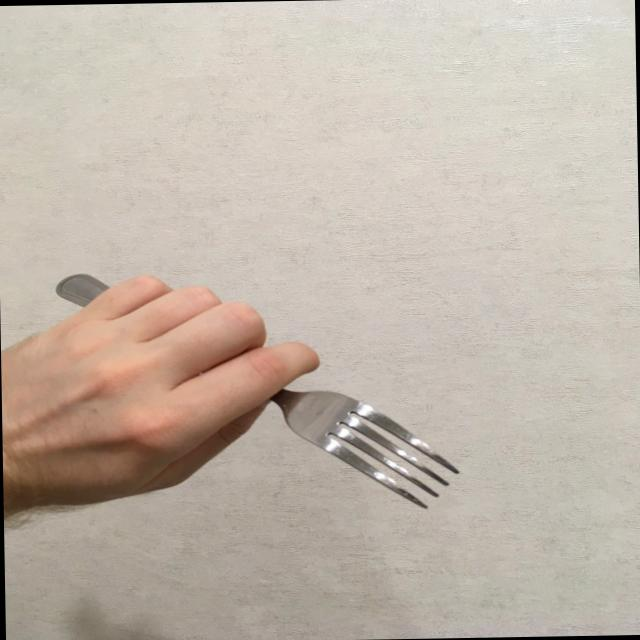fork: (52, 268, 462, 516)
